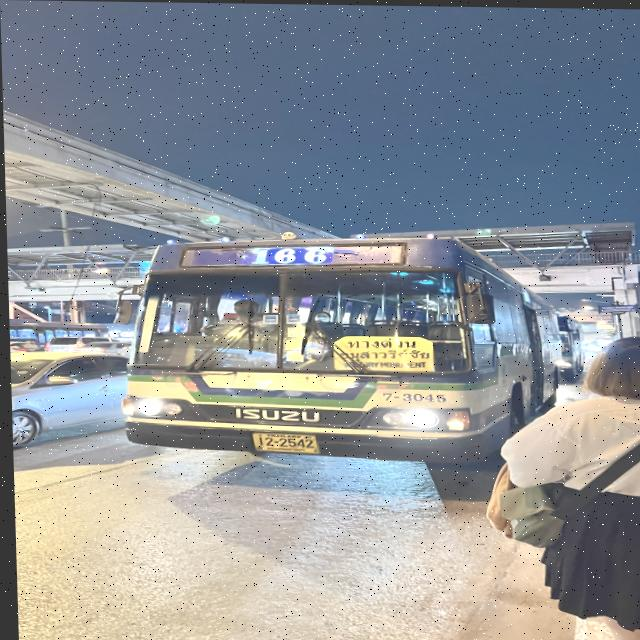BMTA-bus: (114, 232, 559, 470)
Bus-Line-Number: (244, 244, 338, 263)
Destination-Sign-Normal-Expressway: (329, 333, 437, 370)
